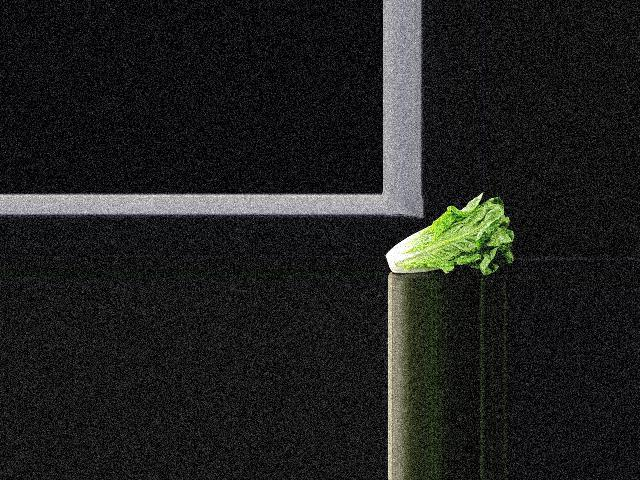lettuce: (384, 193, 516, 275)
